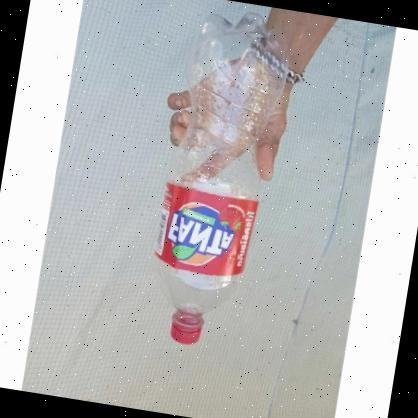bottle: (138, 2, 297, 354)
cap: (166, 311, 207, 347)
label: (152, 176, 263, 282)
